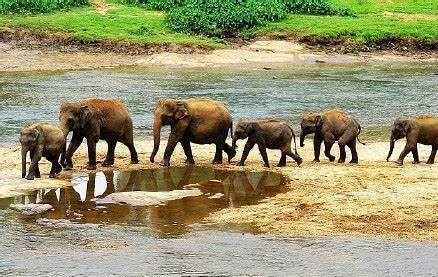elephant: (151, 97, 237, 168), (58, 98, 139, 165), (297, 109, 364, 163), (231, 119, 301, 165), (19, 123, 66, 179), (386, 115, 438, 165)
